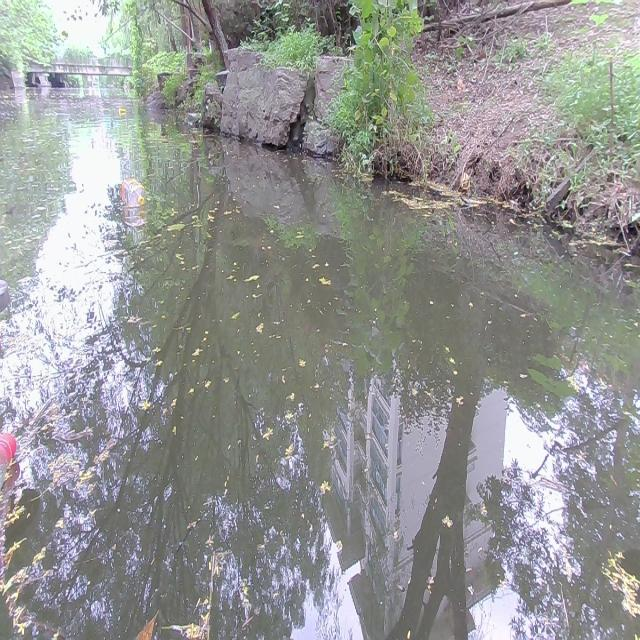bottle: (121, 179, 147, 205), (118, 106, 126, 114)
